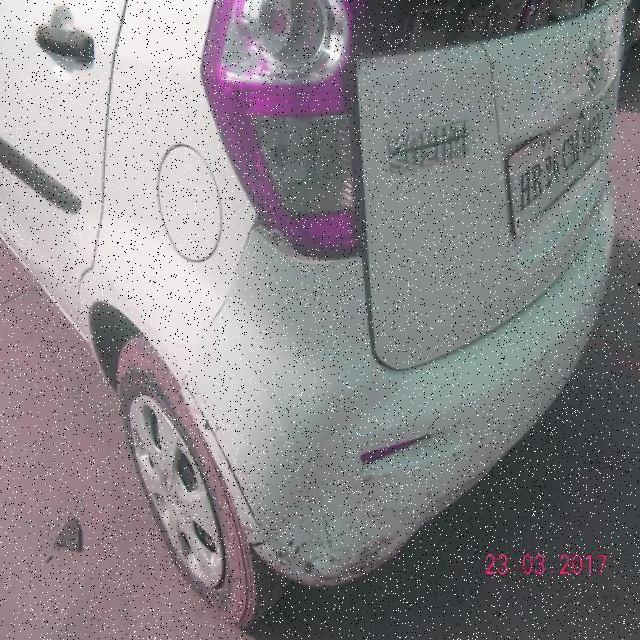car damage: (204, 208, 363, 343), (183, 378, 270, 532), (244, 522, 406, 585)
